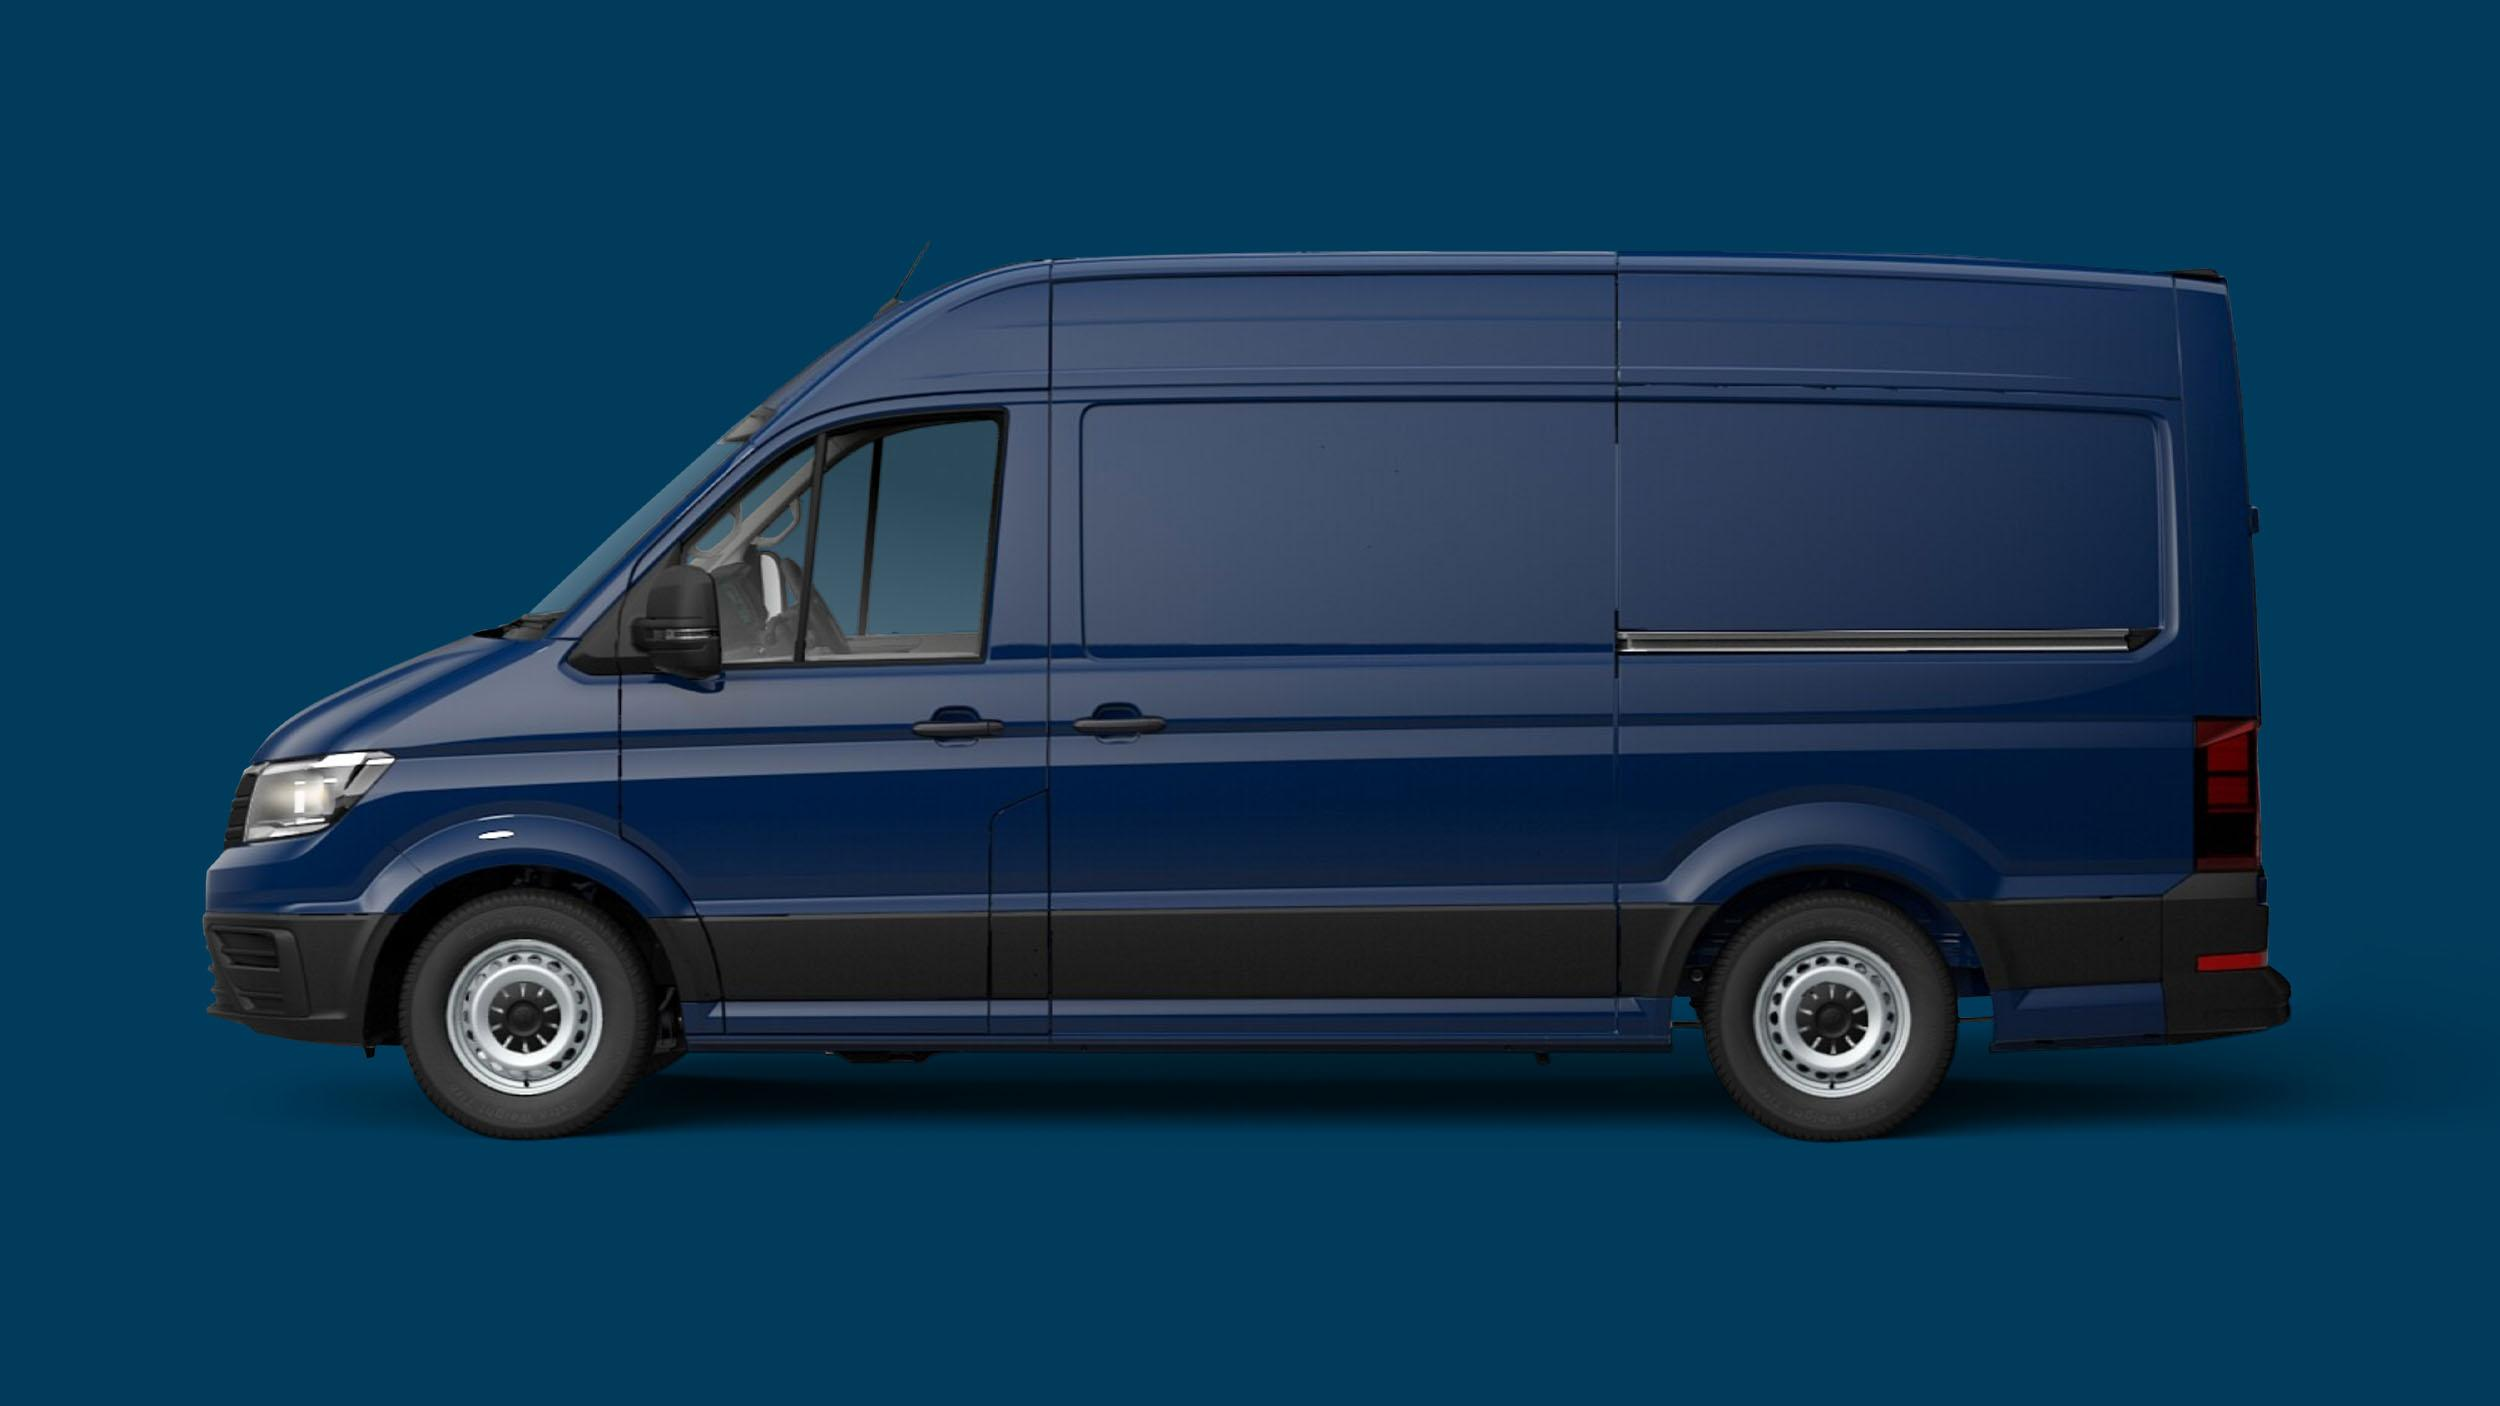van: (201, 249, 2292, 1143)
